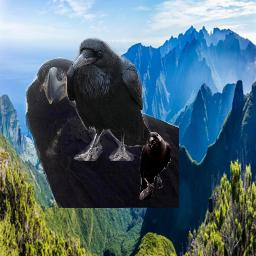Crow: (23, 57, 179, 208), (65, 37, 152, 161), (139, 132, 171, 200)
